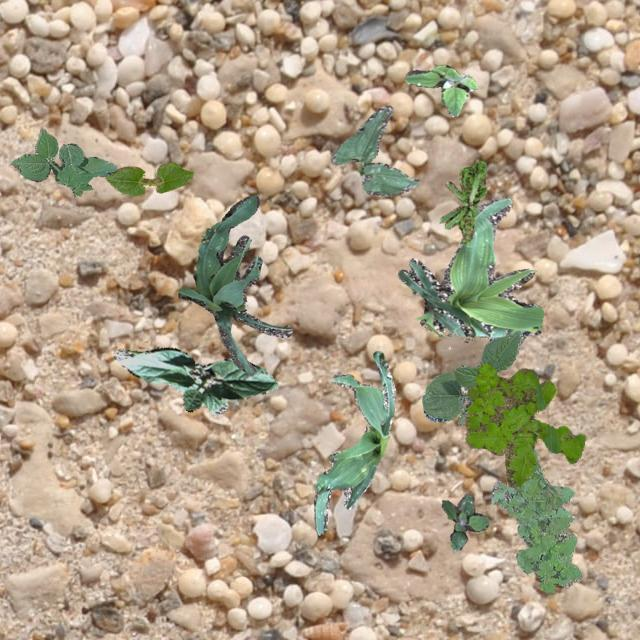crop: (397, 195, 542, 338), (178, 194, 290, 374), (312, 350, 394, 534), (114, 346, 276, 416), (420, 332, 524, 423), (330, 104, 418, 195), (104, 162, 192, 196)
weed: (464, 362, 584, 487), (489, 460, 582, 592), (10, 128, 116, 195), (438, 160, 486, 242), (404, 64, 476, 115), (441, 492, 488, 550)
